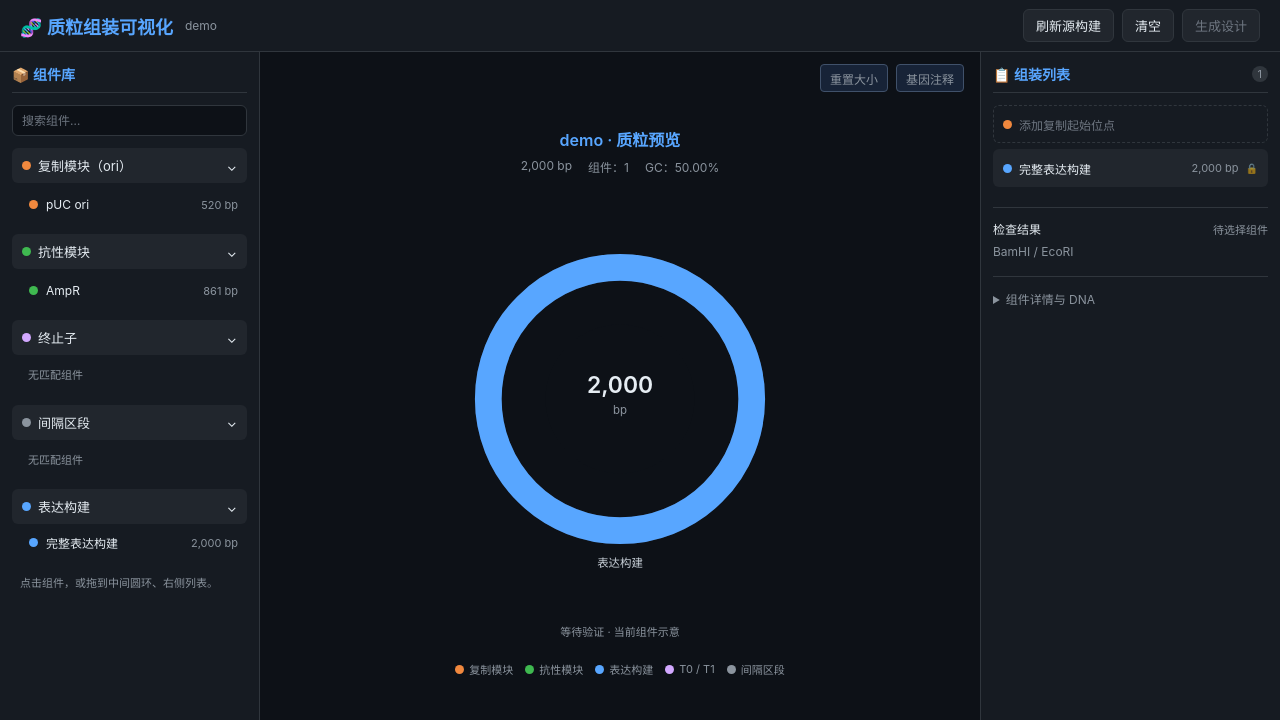
Test case: Workbench › refreshes the preview revision after committing a job while preserving chosen IDs
Expected: the text "AmpR" is shown, [46, 283, 80, 298]
Click the button with aria-label "选择 AmpR" at {"x": 134, "y": 290}, box [20, 275, 247, 306]
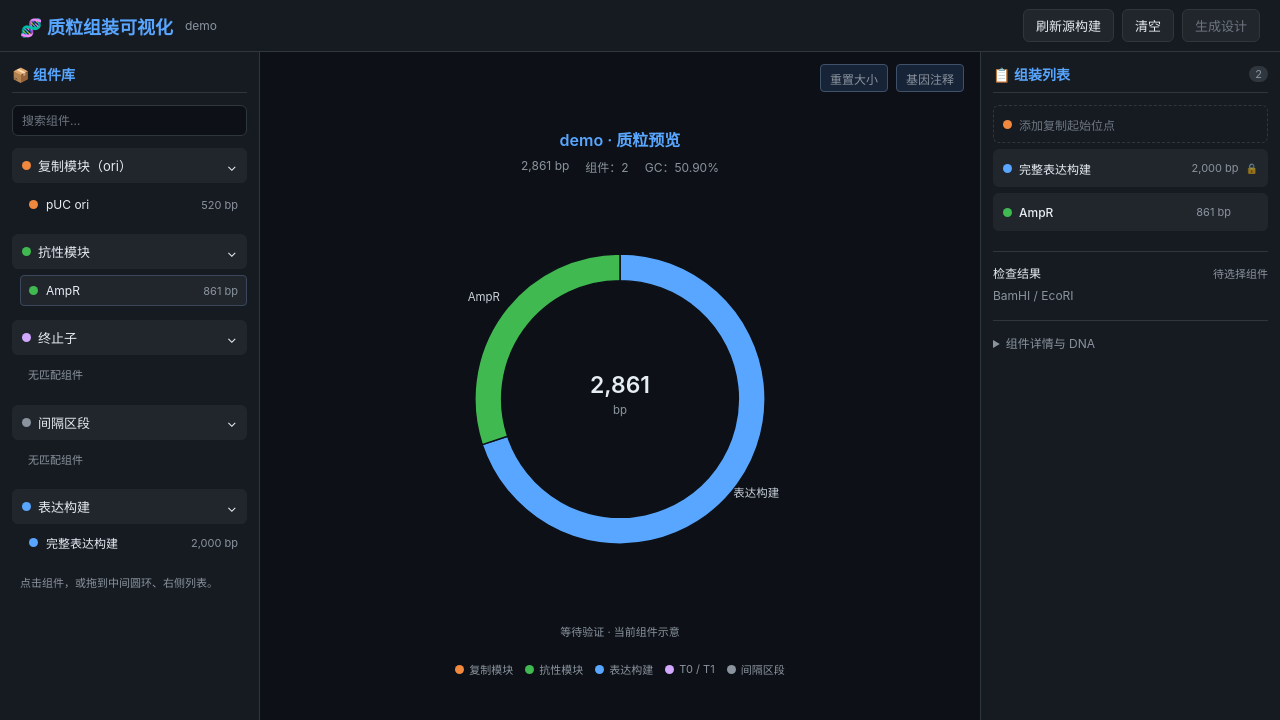
Click the button with aria-label "选择 pUC ori" at {"x": 134, "y": 204}, box [20, 189, 247, 220]
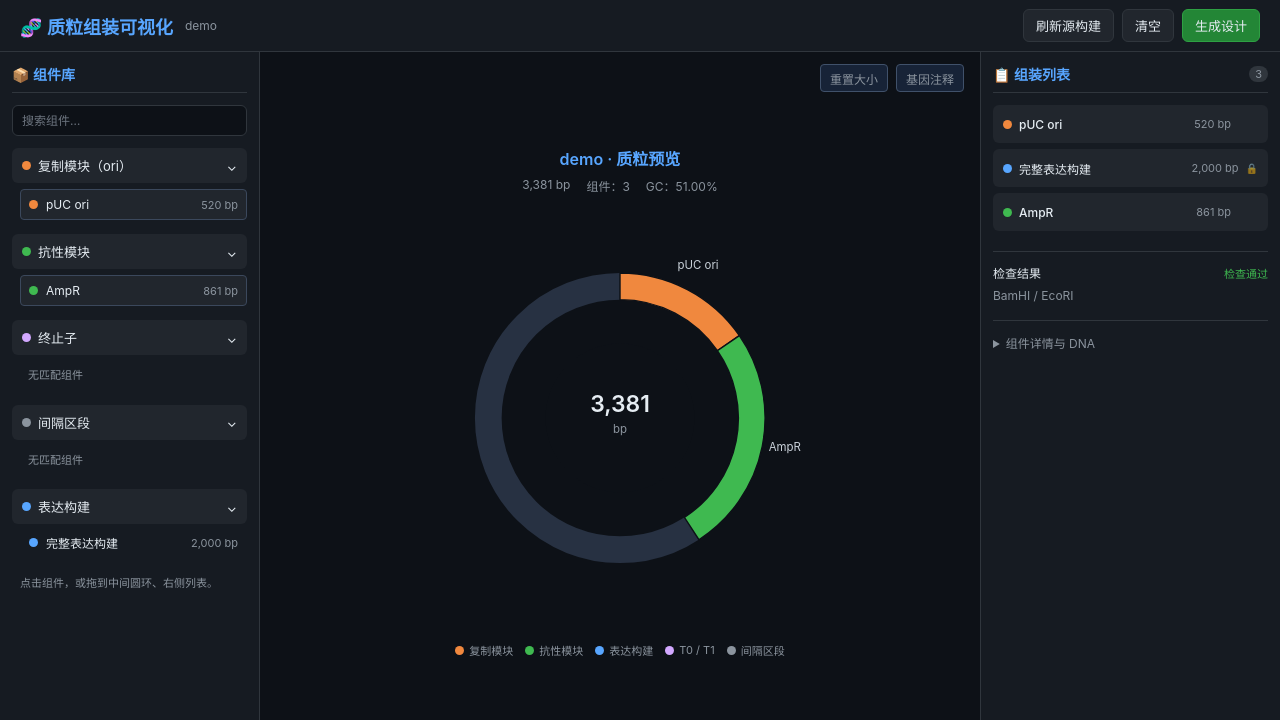
Result: the button "生成设计" is enabled
Click the button "生成设计" at {"x": 1221, "y": 26}, box [1182, 9, 1260, 42]
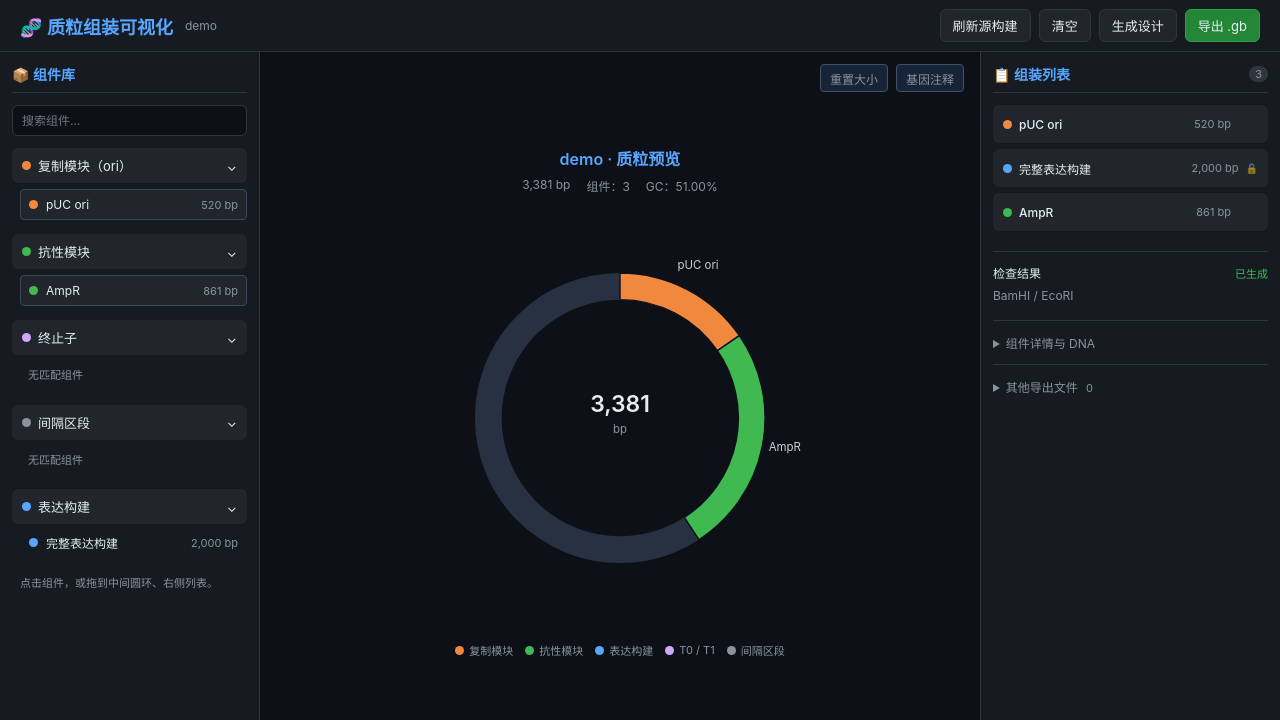
Result: the element with test id "resistance-slot" shows "AmpR" at [1019, 204, 1053, 220]
Result: the link with aria-label "下载 GenBank" is shown at [1185, 9, 1260, 42]
